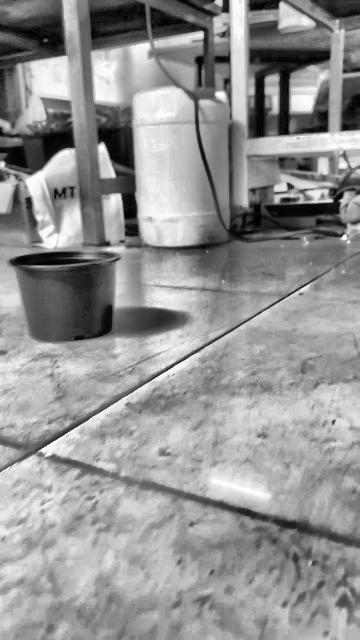pot: (9, 250, 121, 341)
